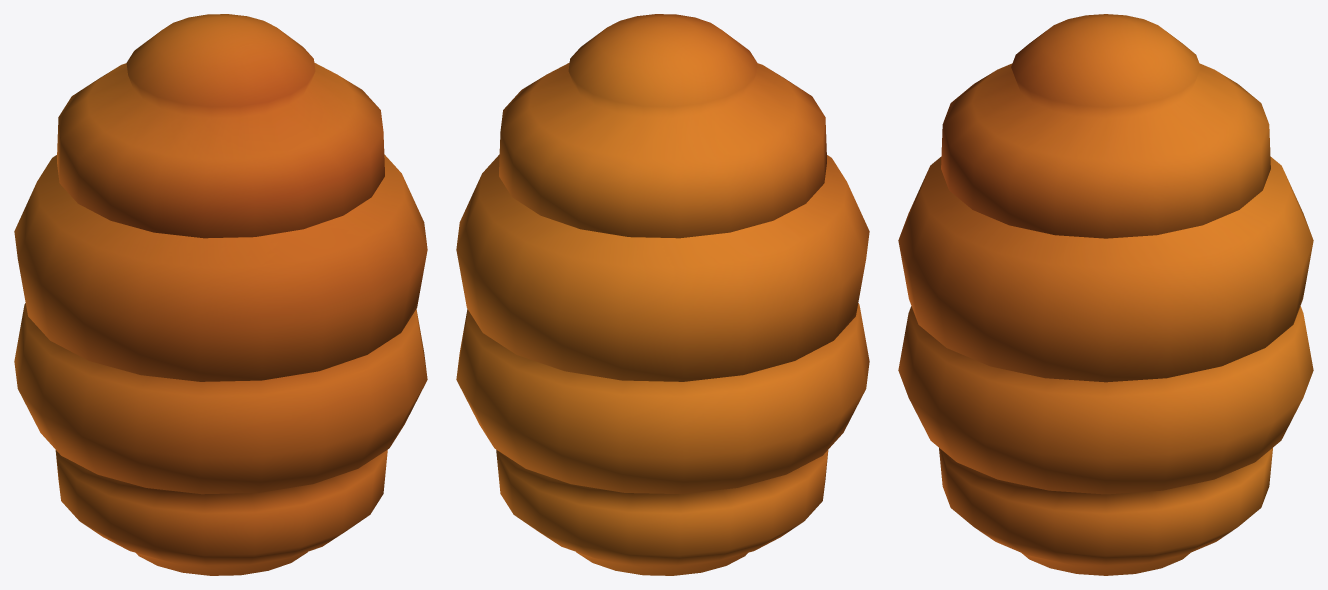
File: necter_storage.fbx
3 views of the same model, side by side, from view 1: azimuth 30°, elevation 25°; view 2: azimuth 150°, elevation 25°; view 3: azimuth 270°, elevation 25° (orthographic).
Parts seen in each view (by area): view 1: nectar_storage; view 2: nectar_storage; view 3: nectar_storage.
Part boxes in pixels (x1,y1,x2,y2): nectar_storage: [14, 14, 427, 575]; nectar_storage: [456, 14, 869, 575]; nectar_storage: [898, 14, 1313, 575].
Bounding box in the file's own units: 3.72 × 5.25 × 3.72.
